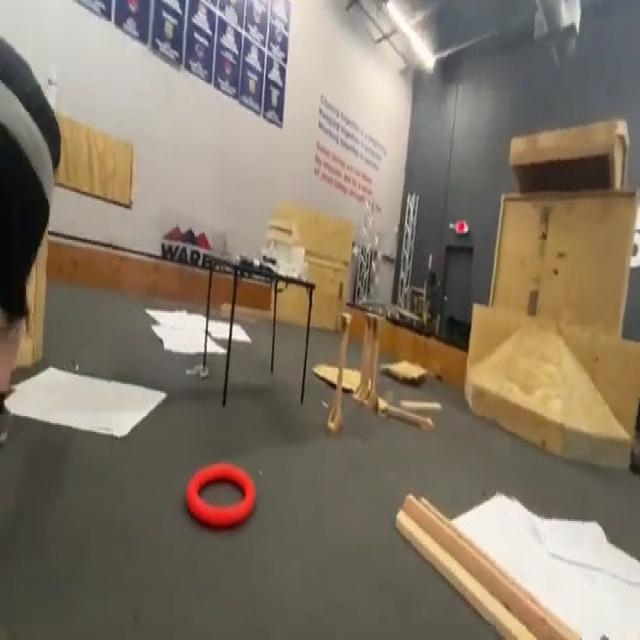note: (186, 464, 256, 528)
